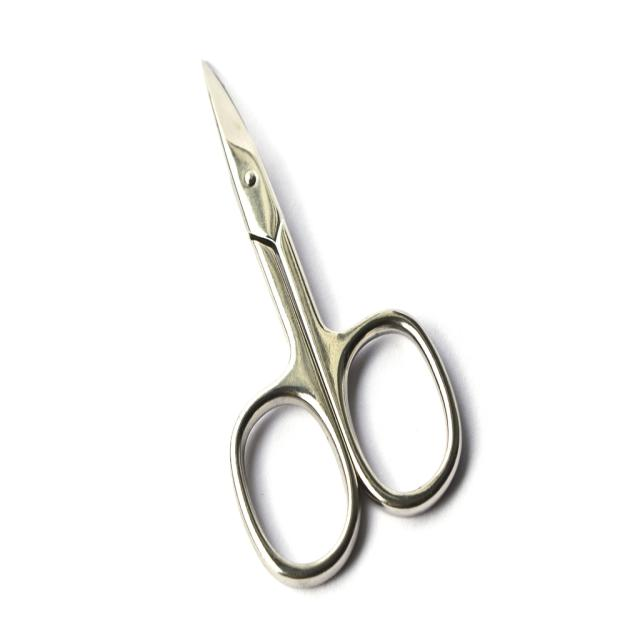scissors: (200, 57, 462, 589)
